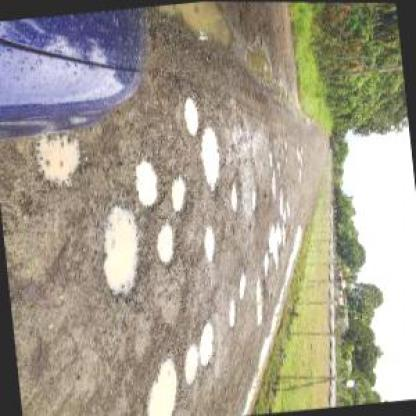pothole: (96, 201, 150, 300), (30, 129, 86, 189), (132, 158, 164, 209), (200, 125, 223, 194), (194, 319, 219, 367), (166, 174, 192, 214), (154, 223, 179, 264), (179, 344, 201, 387), (182, 96, 203, 137), (254, 278, 270, 324), (268, 223, 283, 268), (200, 225, 218, 262), (227, 176, 243, 215), (237, 269, 250, 300), (226, 300, 239, 328), (262, 251, 273, 279), (250, 187, 260, 212)
